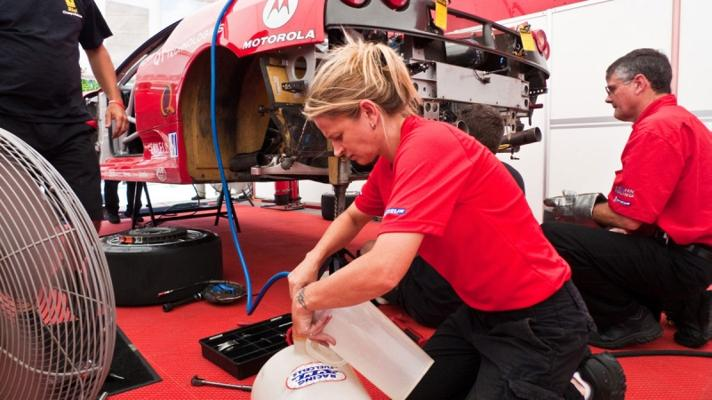person: (290, 42, 626, 400)
